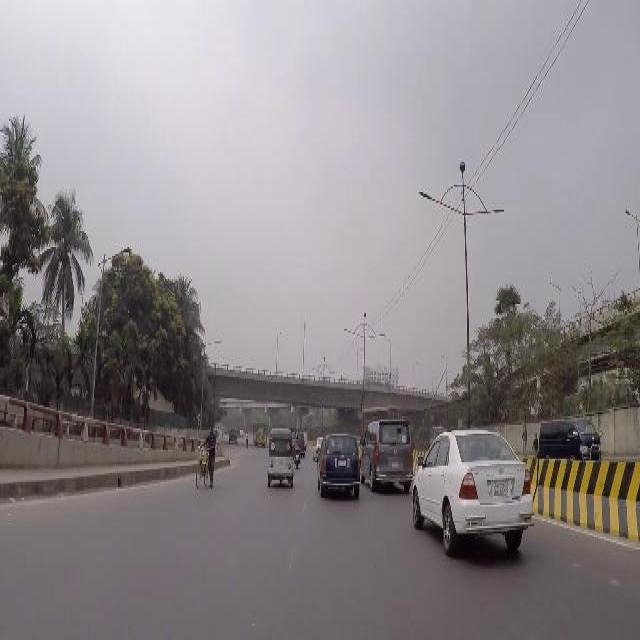10: (292, 431, 300, 465)
17: (265, 426, 293, 484)
5: (409, 430, 533, 556), (316, 433, 359, 495), (313, 434, 321, 458), (228, 427, 236, 441)
9: (359, 423, 411, 491), (537, 423, 603, 462)
Motorcycle: (192, 441, 208, 487)
Truck: (362, 405, 398, 434), (252, 421, 266, 444)
